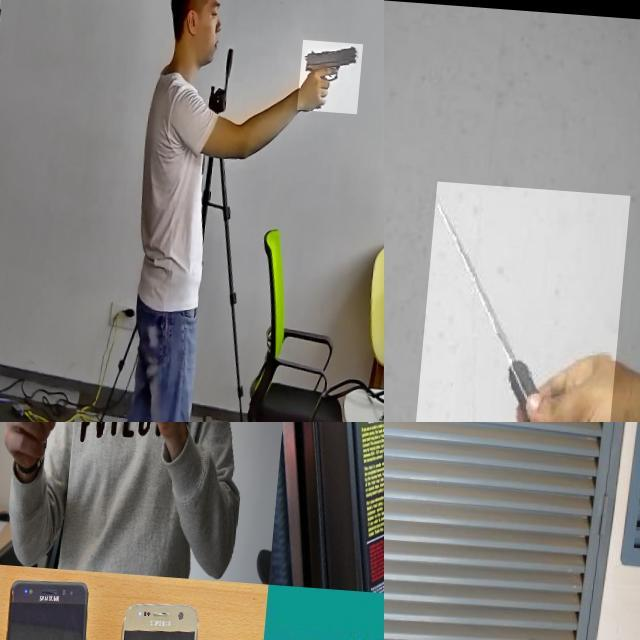-: (416, 177, 633, 422)
gun-knife-thesis - v11 Yolov5 augmented: (303, 34, 367, 107)
